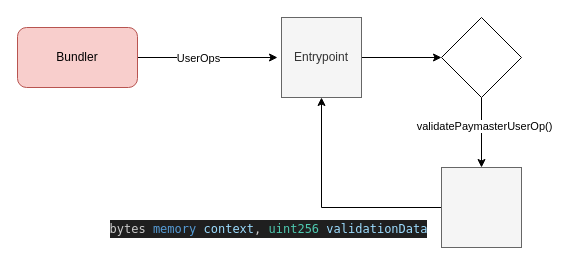
Image size: 569x265. Some labels were removed from this diagram. The shapes that lost their labels are listed below. From the top down, each one's centre as x and y in pixels, then its label:
At point 481,57: "Paymaster?".
At point 481,207: "Paymaster".
